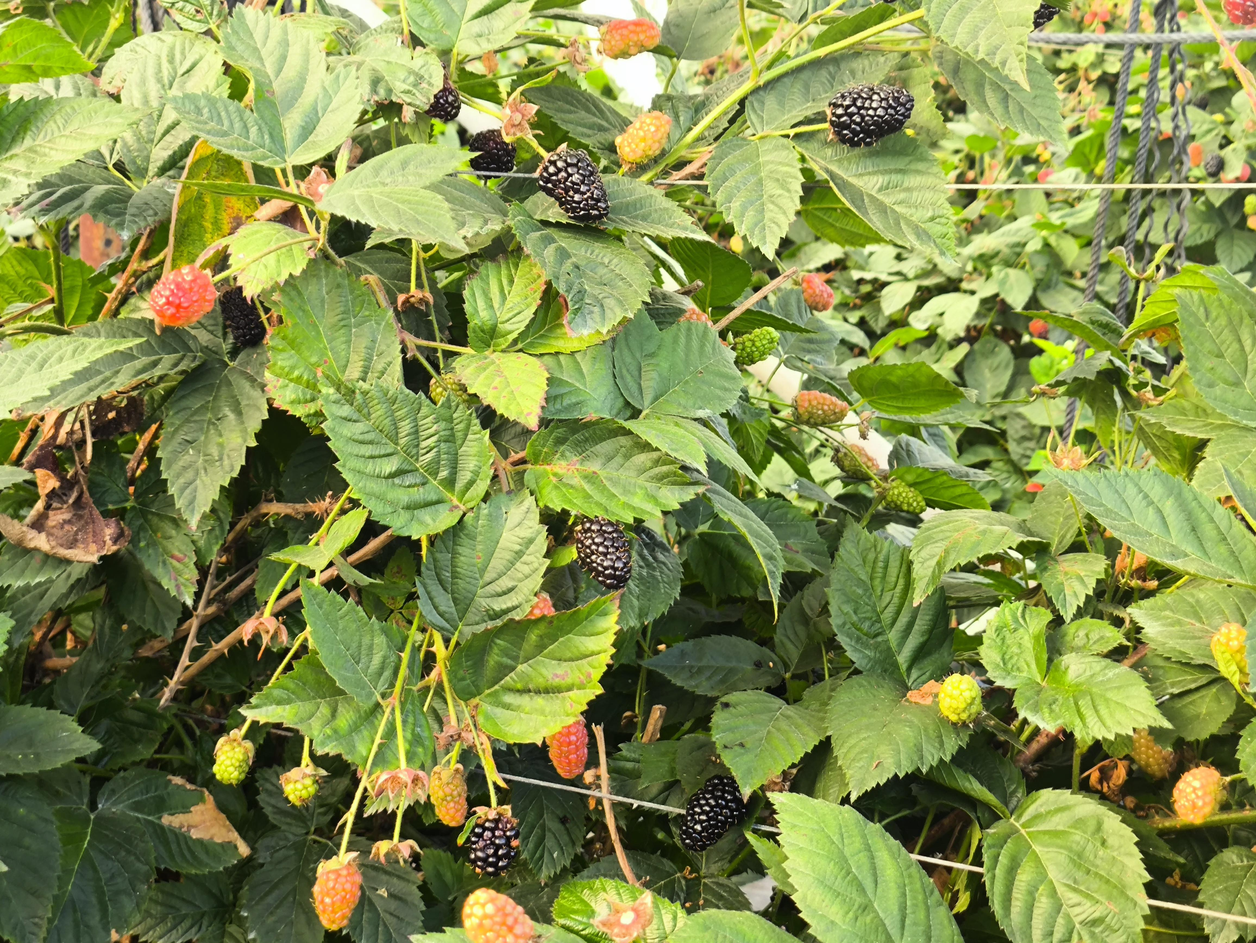maduro: (538, 144, 609, 223), (828, 84, 914, 147), (680, 775, 746, 852), (575, 517, 632, 589), (469, 812, 519, 876), (469, 130, 516, 176), (328, 218, 372, 257), (426, 77, 461, 122), (1203, 154, 1224, 178)
naranja: (150, 265, 217, 326), (462, 888, 533, 943), (313, 853, 362, 930), (1173, 766, 1224, 824), (547, 718, 588, 779), (601, 18, 661, 59), (429, 764, 467, 826), (802, 272, 834, 312), (1029, 319, 1050, 338), (1188, 143, 1203, 166)
verde: (1210, 623, 1256, 707), (615, 111, 672, 169), (280, 738, 326, 806), (213, 730, 254, 785), (938, 674, 981, 724), (1131, 729, 1173, 779), (793, 390, 850, 426), (731, 326, 779, 367), (832, 444, 879, 480), (883, 479, 926, 514), (679, 307, 714, 327)
zarzamora: (547, 718, 588, 779)
